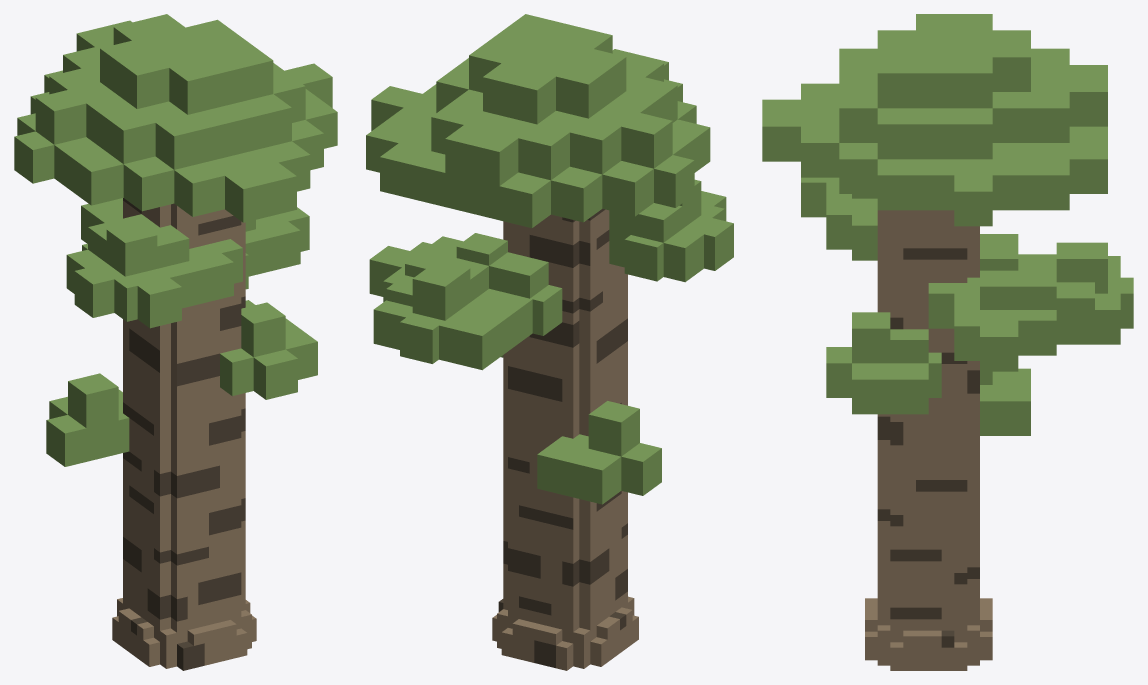
File: tree_big_1.fbx
The picture shows the model from 3 angles, left to right: view 1: azimuth 30°, elevation 25°; view 2: azimuth 150°, elevation 25°; view 3: azimuth 270°, elevation 25°; orthographic projection. The views are drawn at different scales.
Parts seen in each view (by area): view 1: Grid.042; view 2: Grid.042; view 3: Grid.042.
Boxes of the visible parts, bbox=[...] form: Grid.042: bbox=[14, 14, 337, 670]; Grid.042: bbox=[366, 14, 733, 670]; Grid.042: bbox=[762, 14, 1133, 670].
Size of the model in its own units: 280 by 520 by 290.
